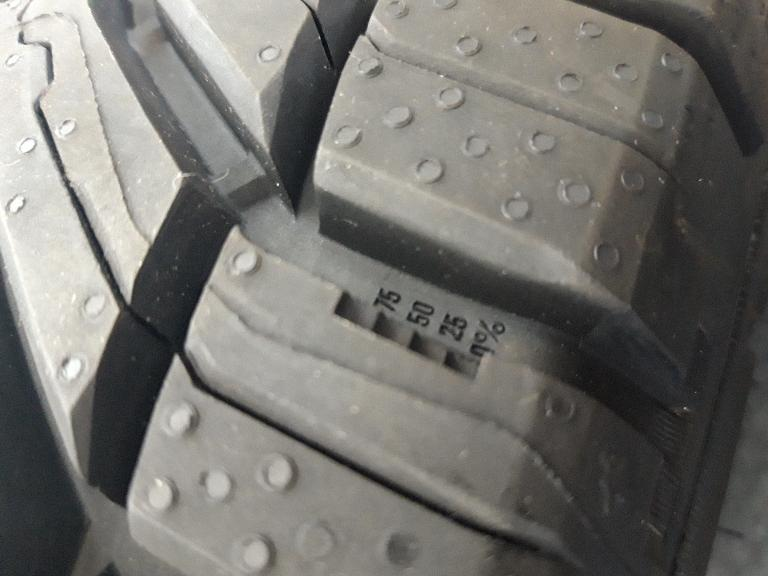temoin:100: (312, 274, 491, 388)
